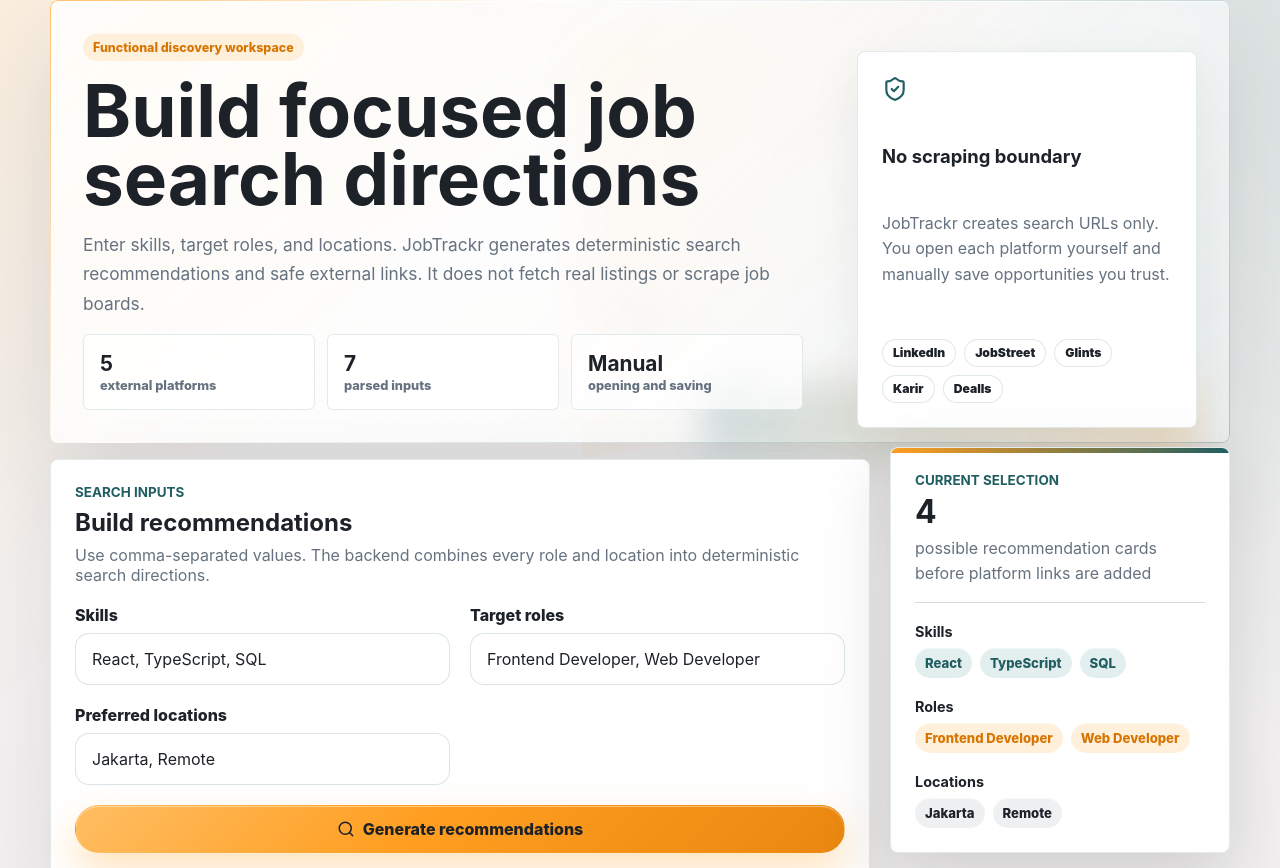
Test case: DiscoverPage › renders deterministic recommendations from the backend
Click the button "Generate recommendations": (460, 829) [75,805,845,853]
(page scrolled)
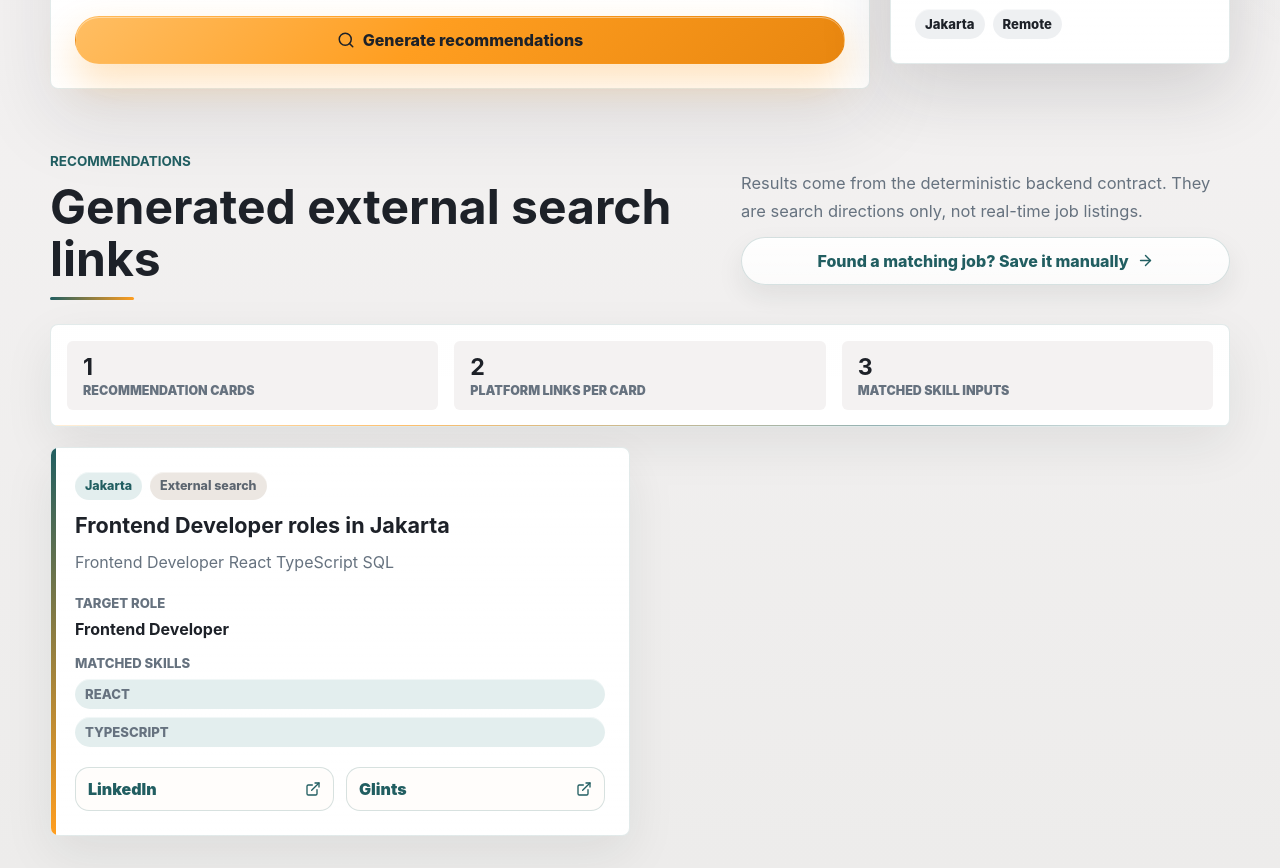
Now the heading "Frontend Developer roles in Jakarta" is shown, box [75,512,450,538]
Now the link "LinkedIn" is shown, box [75,767,334,811]
Now the link "Glints" is shown, box [346,767,605,811]
